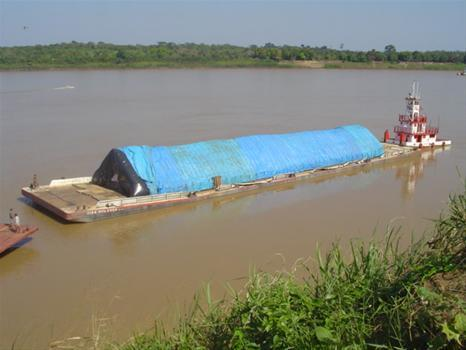Ship: (26, 90, 447, 220)
